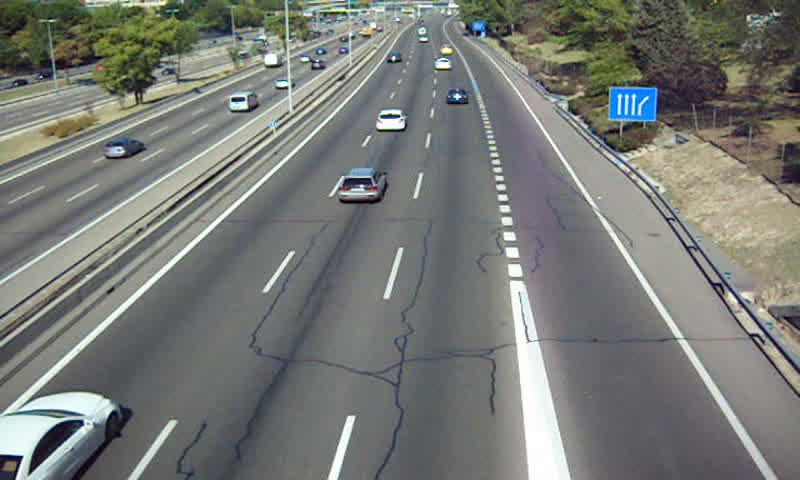car: (1, 390, 117, 480), (338, 170, 386, 201), (376, 109, 407, 129), (446, 88, 468, 106), (436, 56, 450, 72)
